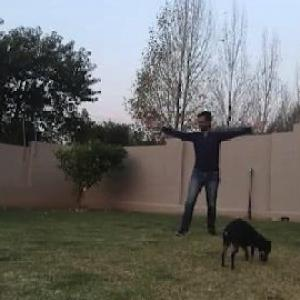takeoff: (154, 107, 278, 247)
